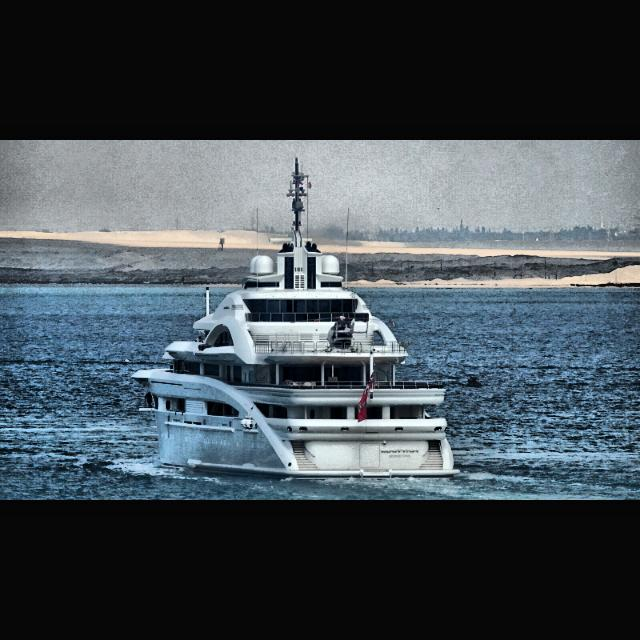yacht: (128, 230, 462, 482)
